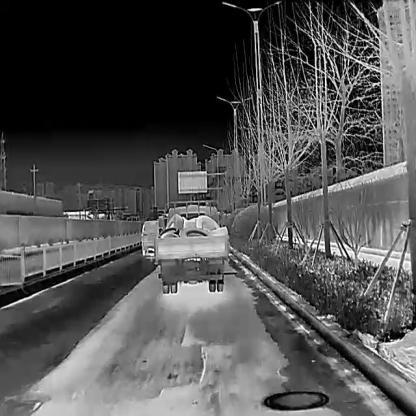car: (155, 199, 228, 293), (141, 220, 159, 260)
